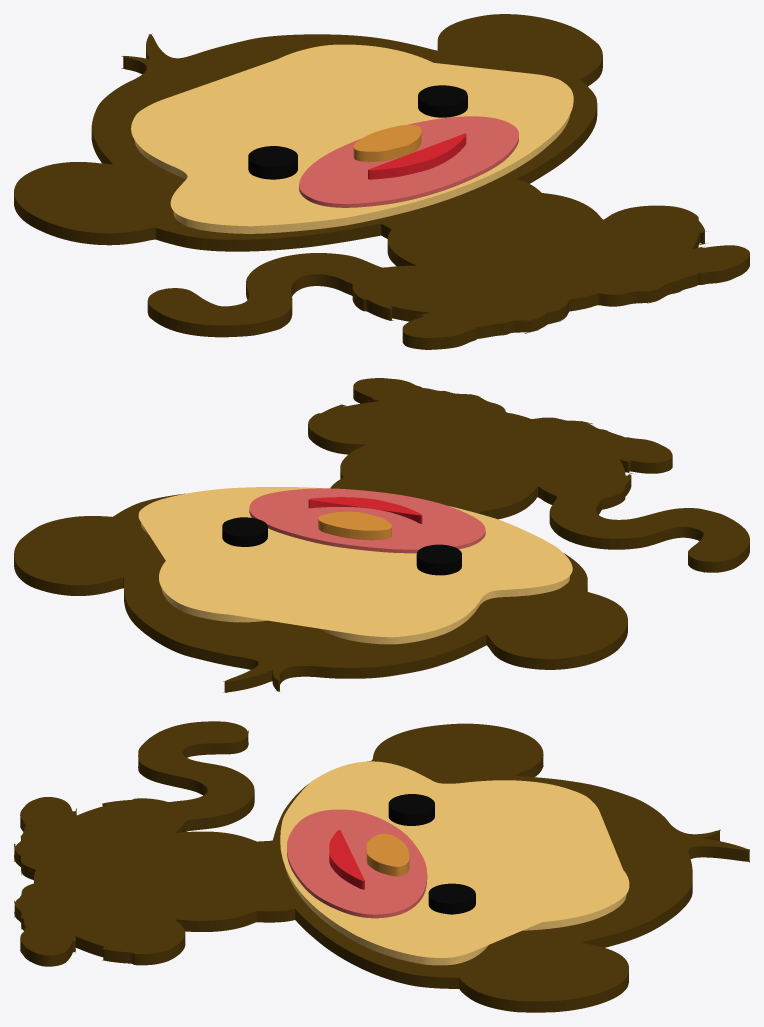
Rendered from mankey.fbx.
3 views of the same model, one above another, from view 1: azimuth 30°, elevation 25°; view 2: azimuth 150°, elevation 25°; view 3: azimuth 270°, elevation 25° (orthographic). The views are drawn at different scales.
Visible parts, largest first — view 1: Curve, Curve.001, Curve.004, Curve.005, Curve.006, Curve.003, Curve.002; view 2: Curve, Curve.001, Curve.004, Curve.005, Curve.003, Curve.002, Curve.006; view 3: Curve, Curve.001, Curve.004, Curve.005, Curve.003, Curve.002, Curve.006.
Boxes of the visible parts, x1,y1,x2,y2 form: Curve: [14, 14, 749, 349]; Curve.001: [131, 44, 573, 233]; Curve.004: [299, 116, 518, 207]; Curve.005: [353, 124, 421, 161]; Curve.006: [368, 133, 466, 179]; Curve.003: [248, 146, 297, 179]; Curve.002: [418, 85, 467, 117]; Curve: [14, 378, 749, 692]; Curve.001: [138, 487, 572, 644]; Curve.004: [249, 488, 485, 553]; Curve.005: [318, 511, 391, 540]; Curve.003: [416, 544, 461, 575]; Curve.002: [222, 517, 267, 546]; Curve.006: [308, 497, 422, 523]; Curve: [14, 721, 749, 1012]; Curve.001: [280, 761, 629, 965]; Curve.004: [287, 809, 427, 918]; Curve.005: [366, 833, 409, 876]; Curve.003: [388, 794, 434, 825]; Curve.002: [428, 883, 475, 914]; Curve.006: [329, 830, 364, 889].
Size of the model in its own units: 2599 by 144 by 2887.
